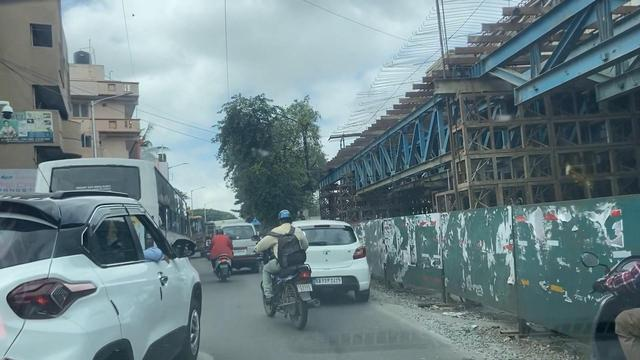LMV: (261, 213, 311, 322), (209, 229, 237, 281)
